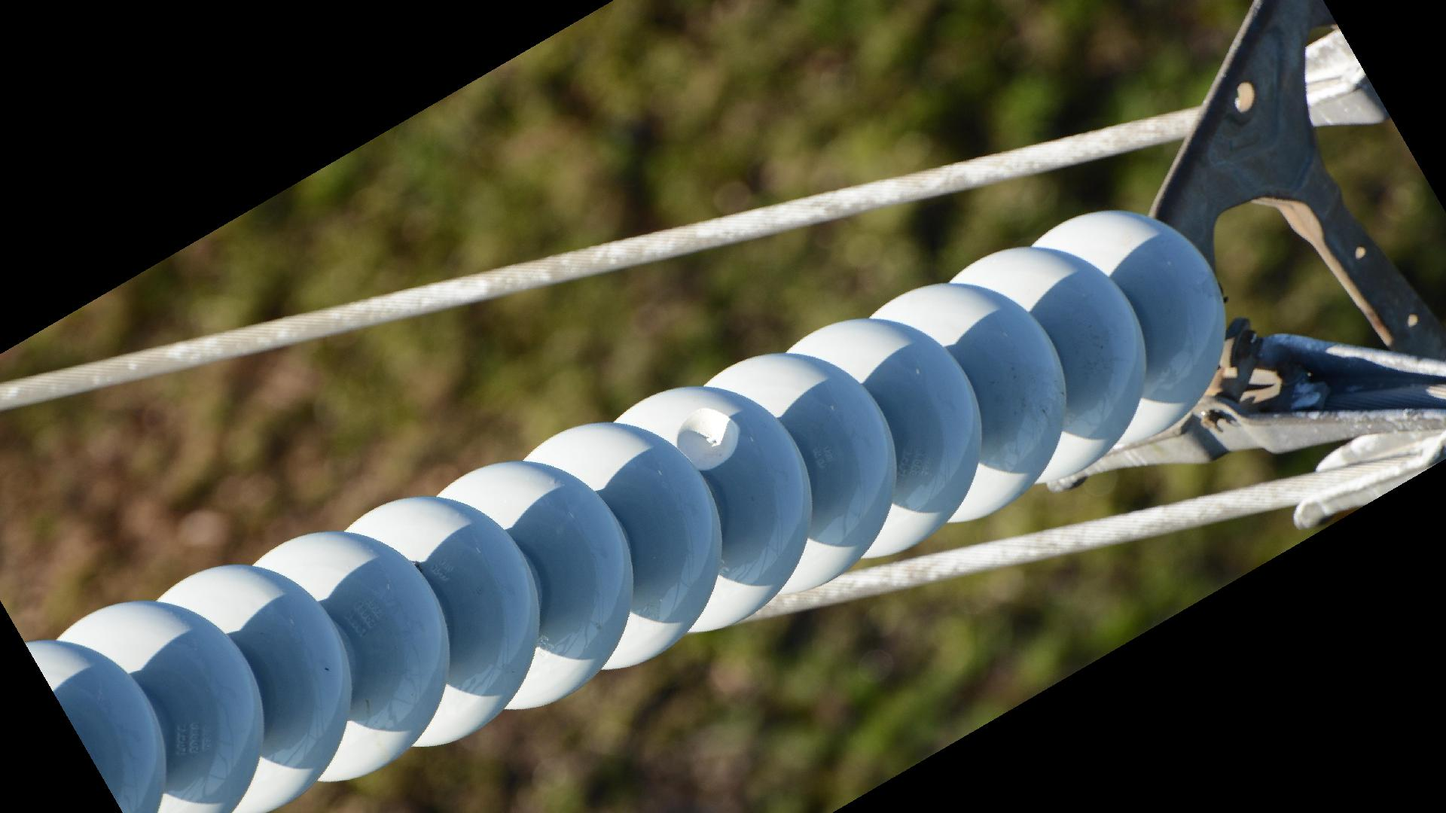insulator: (24, 202, 1239, 813)
insulator_breakage: (669, 400, 750, 480)
